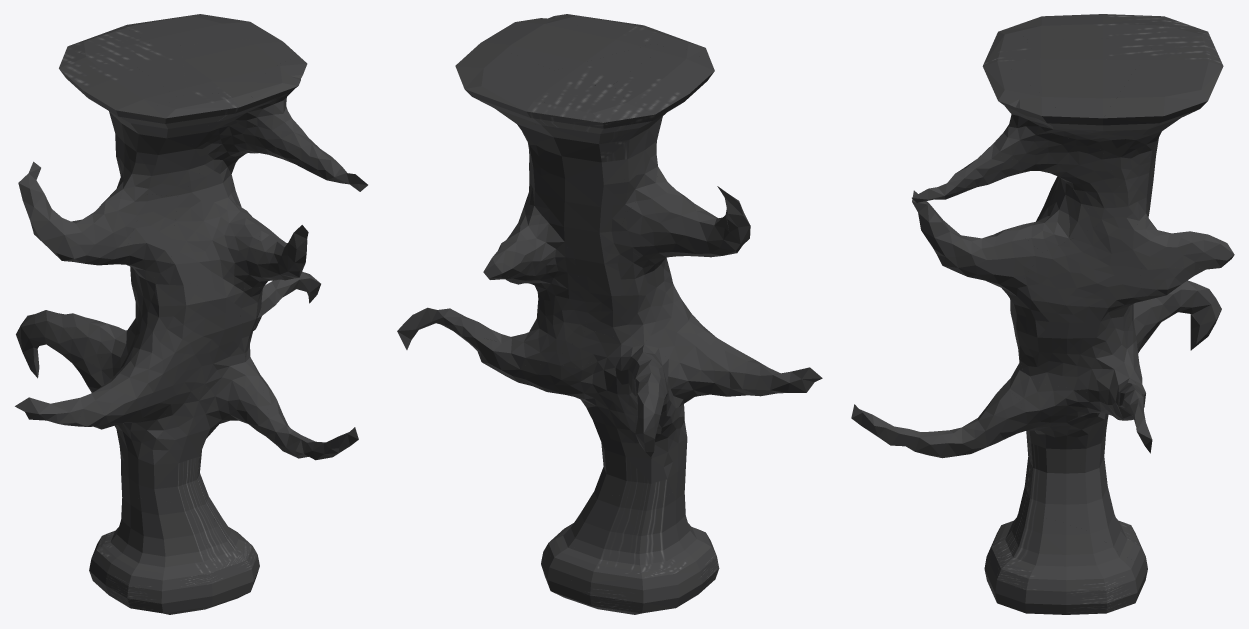
Rendered from Kolonna2.fbx.
The picture shows the model from 3 angles, left to right: view 1: azimuth 30°, elevation 25°; view 2: azimuth 150°, elevation 25°; view 3: azimuth 270°, elevation 25°; orthographic projection. The views are drawn at different scales.
Parts seen in each view (by area): view 1: Cube_cell.011, Cube_cell.005, Cube_cell.001, Cube_cell.013, Cube_cell.023, Cube_cell.012, Cube_cell.016, Cube_cell.008, Cube_cell.018, Cube_cell.003, Cube_cell.029, Cube_cell.027 (+11 smaller); view 2: Cube_cell.005, Cube_cell.014, Cube_cell.003, Cube_cell.011, Cube_cell.012, Cube_cell.001, Cube_cell.009, Cube_cell.020, Cube_cell, Cube_cell.008, Cube_cell.029, Cube_cell.025 (+6 smaller); view 3: Cube_cell.006, Cube_cell.018, Cube_cell, Cube_cell.023, Cube_cell.008, Cube_cell.016, Cube_cell.026, Cube_cell.014, Cube_cell.002, Cube_cell.005, Cube_cell.017, Cube_cell.025 (+7 smaller).
Boxes of the visible parts, x1=… form: Cube_cell.011: x1=15, y1=275, x2=245, y2=421; Cube_cell.005: x1=89, y1=489, x2=214, y2=614; Cube_cell.001: x1=59, y1=58, x2=200, y2=196; Cube_cell.013: x1=164, y1=171, x2=260, y2=295; Cube_cell.023: x1=155, y1=358, x2=276, y2=505; Cube_cell.012: x1=18, y1=161, x2=145, y2=272; Cube_cell.016: x1=126, y1=42, x2=260, y2=173; Cube_cell.008: x1=181, y1=39, x2=298, y2=94; Cube_cell.018: x1=174, y1=506, x2=259, y2=614; Cube_cell.003: x1=82, y1=342, x2=163, y2=499; Cube_cell.029: x1=16, y1=312, x2=126, y2=376; Cube_cell.027: x1=126, y1=194, x2=178, y2=278; Cube_cell.005: x1=568, y1=480, x2=719, y2=614; Cube_cell.014: x1=525, y1=85, x2=638, y2=254; Cube_cell.003: x1=576, y1=352, x2=745, y2=501; Cube_cell.011: x1=640, y1=258, x2=822, y2=393; Cube_cell.012: x1=617, y1=172, x2=750, y2=270; Cube_cell.001: x1=612, y1=46, x2=714, y2=212; Cube_cell.009: x1=574, y1=242, x2=660, y2=386; Cube_cell.020: x1=469, y1=252, x2=586, y2=367; Cube_cell: x1=455, y1=43, x2=564, y2=159; Cube_cell.008: x1=481, y1=25, x2=653, y2=70; Cube_cell.029: x1=555, y1=329, x2=668, y2=451; Cube_cell.025: x1=483, y1=204, x2=573, y2=279; Cube_cell.006: x1=1008, y1=224, x2=1152, y2=453; Cube_cell.018: x1=984, y1=517, x2=1143, y2=614; Cube_cell: x1=1086, y1=55, x2=1223, y2=186; Cube_cell.023: x1=979, y1=369, x2=1095, y2=504; Cube_cell.008: x1=1007, y1=45, x2=1136, y2=141; Cube_cell.016: x1=1026, y1=38, x2=1161, y2=212; Cube_cell.026: x1=919, y1=210, x2=1040, y2=294; Cube_cell.014: x1=1095, y1=21, x2=1221, y2=235; Cube_cell.002: x1=851, y1=390, x2=1022, y2=458; Cube_cell.005: x1=990, y1=475, x2=1147, y2=584; Cube_cell.017: x1=988, y1=66, x2=1064, y2=162; Cube_cell.025: x1=1126, y1=217, x2=1234, y2=269.
Bounding box in the file's own units: 72.1 × 99.14 × 63.08.
